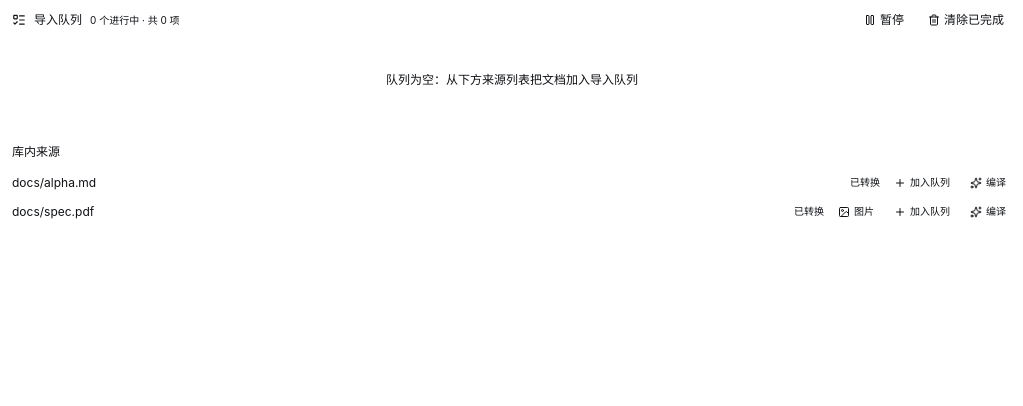
Test: KbWikiTasks PDF 资产面板（issue 11） › .pdf 来源出现图片入口；展开渲染摘要、资产缩略图（local-resource）与页码
This screenshot has width=1023, height=406.
Expected: the text "docs/spec.pdf" is shown, 12,204 -> 94,219
Click the button titled "查看 PDF 图像资产" at (856, 212), box 832,203 -> 880,221
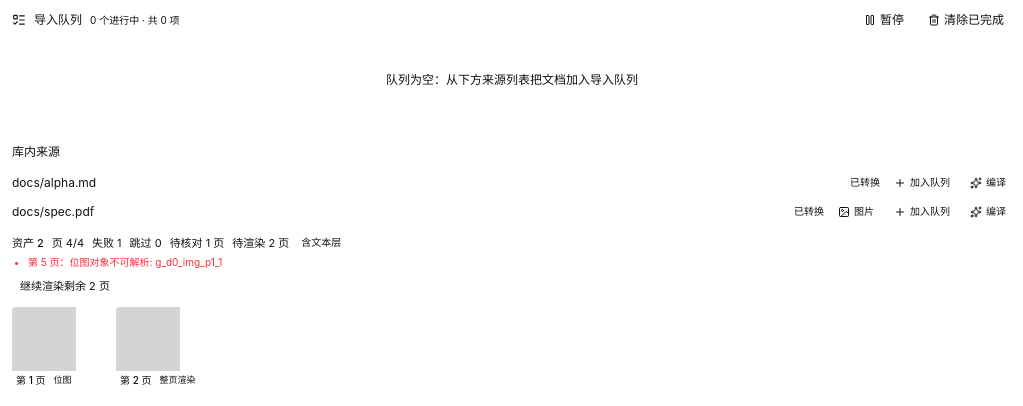
Now the element with test id "pdf-assets-panel" is shown, box 12,236 -> 341,390
Now the text "资产 2" is shown, box 12,235 -> 44,251
Now the text "页 4/4" is shown, box 52,235 -> 84,251
